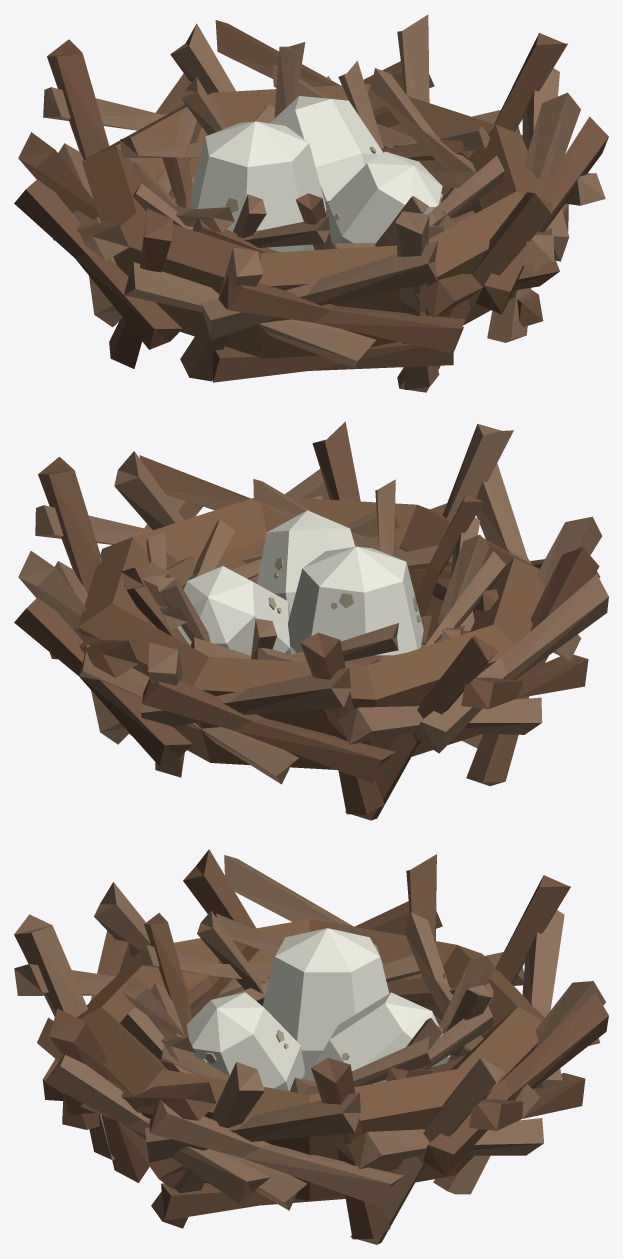
The model's file is bird_Nest_01.FBX.
The picture shows the model from 3 angles, top to bottom: view 1: azimuth 30°, elevation 25°; view 2: azimuth 150°, elevation 25°; view 3: azimuth 270°, elevation 25°; orthographic projection.
Parts seen in each view (by area): view 1: bird_Nest_01; view 2: bird_Nest_01; view 3: bird_Nest_01.
Part boxes in pixels (bbox=[...]): bird_Nest_01: bbox=[14, 14, 608, 392]; bird_Nest_01: bbox=[14, 421, 608, 820]; bird_Nest_01: bbox=[14, 849, 608, 1244].
Size of the model in its own units: 1.75 by 0.7315 by 1.73.
